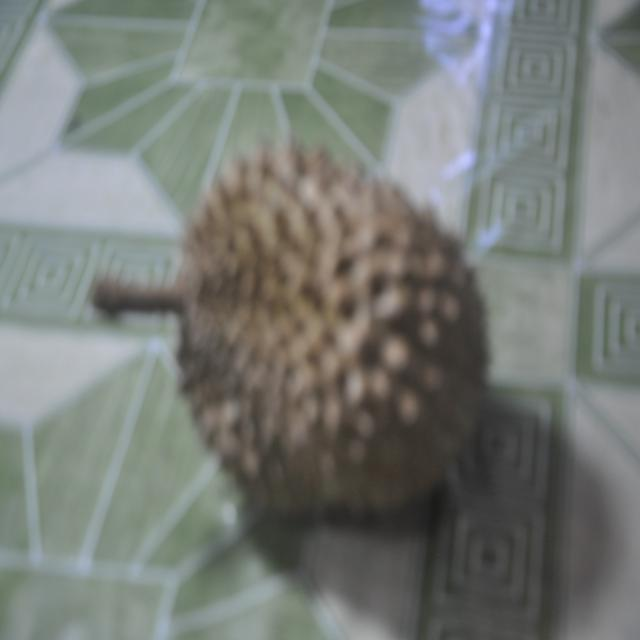mature: (81, 125, 505, 546)
